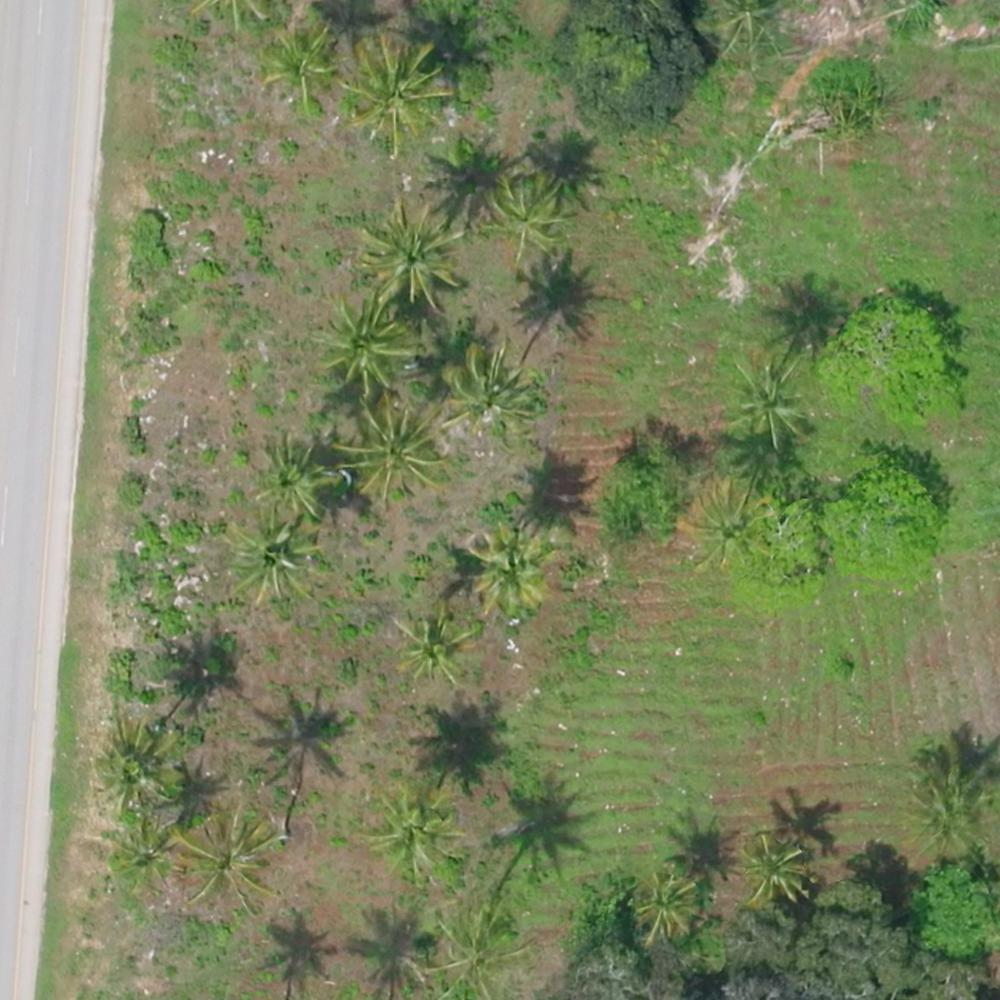Palm: (341, 39, 446, 142), (335, 402, 446, 498), (360, 207, 453, 312), (447, 343, 538, 442), (316, 301, 411, 395), (183, 817, 278, 909), (231, 513, 324, 604), (719, 365, 815, 450), (680, 475, 771, 562), (370, 795, 463, 880), (484, 173, 569, 258), (261, 25, 342, 111), (393, 601, 481, 680), (461, 531, 551, 608), (726, 835, 810, 907), (257, 438, 332, 516), (627, 871, 701, 936)
